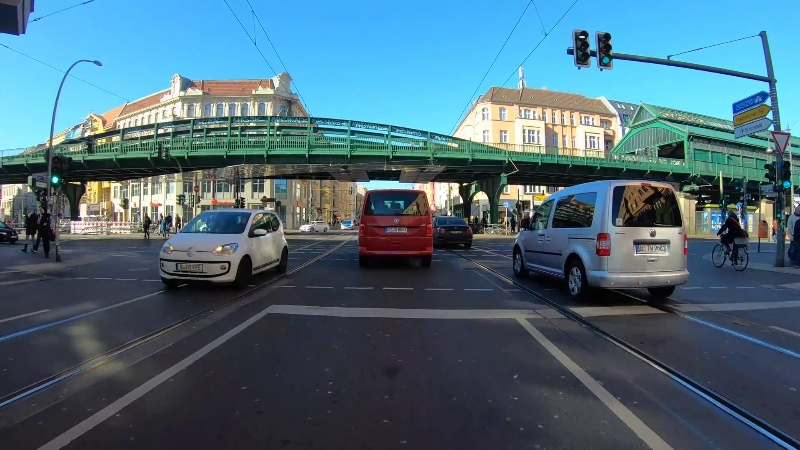Plate: (635, 242, 669, 253), (175, 261, 203, 274), (383, 226, 408, 233)
